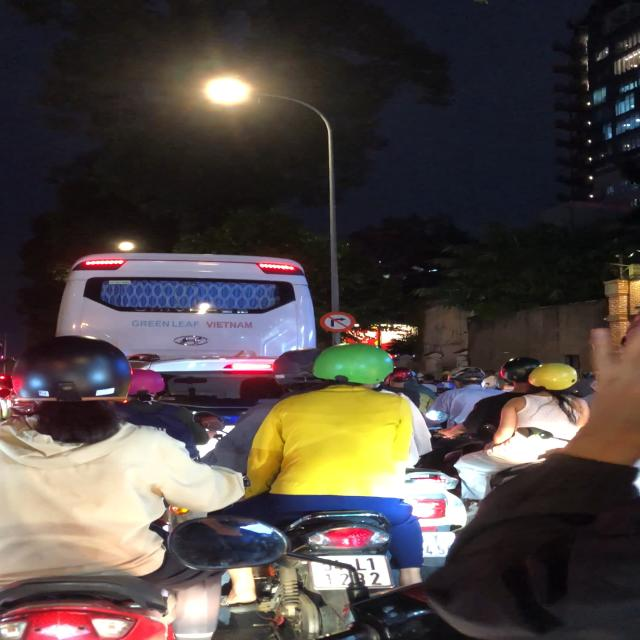Bien bao cam re phai: (316, 308, 361, 336)
